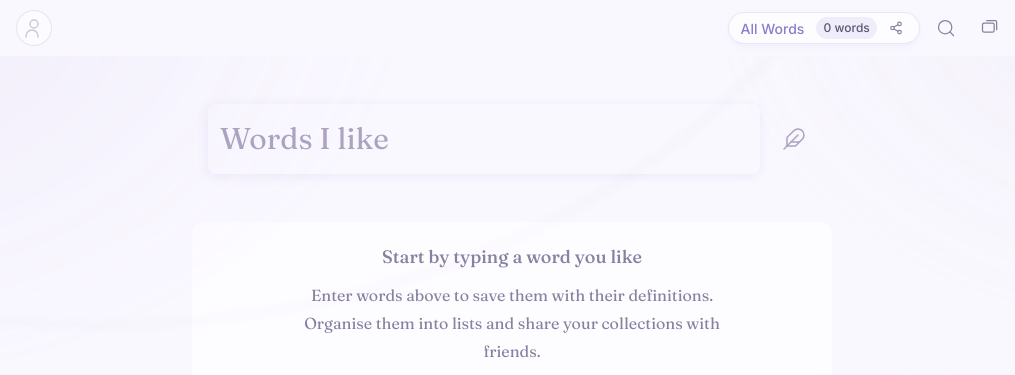
app › shows avatar popover after first added word when not signed in
Expected: the text "Start by typing a word you like" is shown, [382,245,642,268]
Type "ephemeral" into the field named "Enter a word" at coordinates (484, 139), box [208,104,760,174]
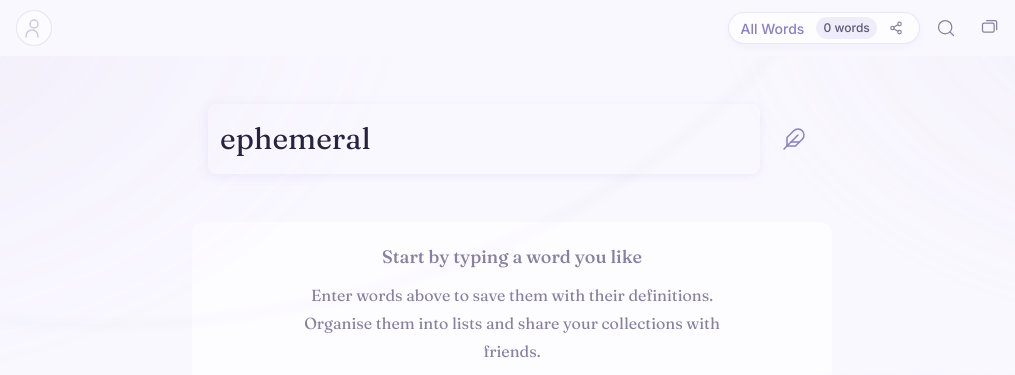
Submit the form named "Enter a word", box [208,104,816,174]
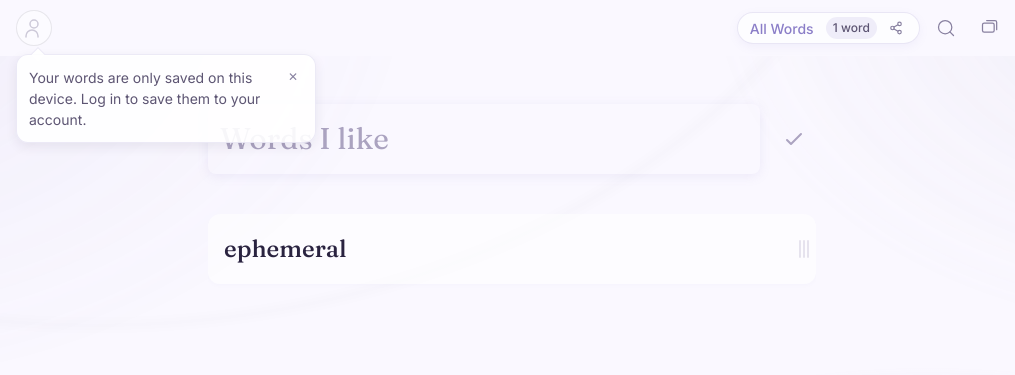
Expected: the text "only saved on this device" is shown, [29,69,260,128]
Expected: the text "Start by typing a word you like" is gone
